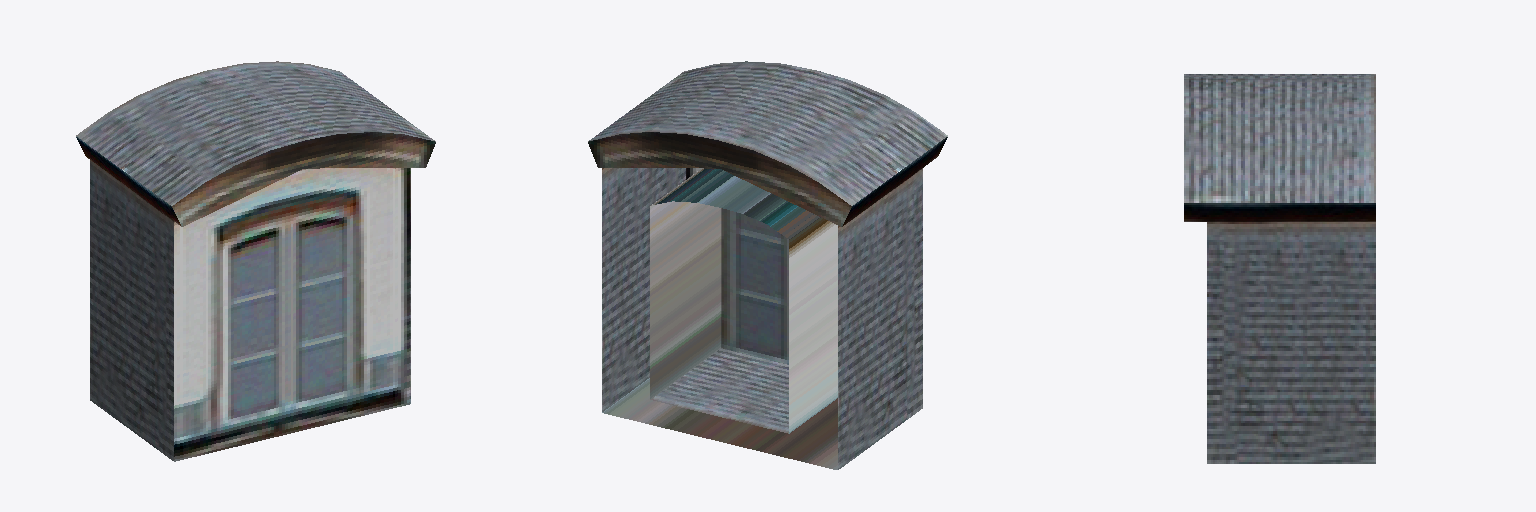
3 views of the same model, side by side, from view 1: azimuth 30°, elevation 25°; view 2: azimuth 150°, elevation 25°; view 3: azimuth 270°, elevation 25° (orthographic).
Parts seen in each view (by area): view 1: polySurface10; view 2: polySurface10; view 3: polySurface10.
Part boxes in pixels (x1,y1,x2,y2): polySurface10: (76, 61, 435, 461); polySurface10: (588, 61, 947, 469); polySurface10: (1184, 74, 1375, 463).
Bounding box in the file's own units: 2.17 × 2.36 × 1.37.
1 materials, 1 textured.